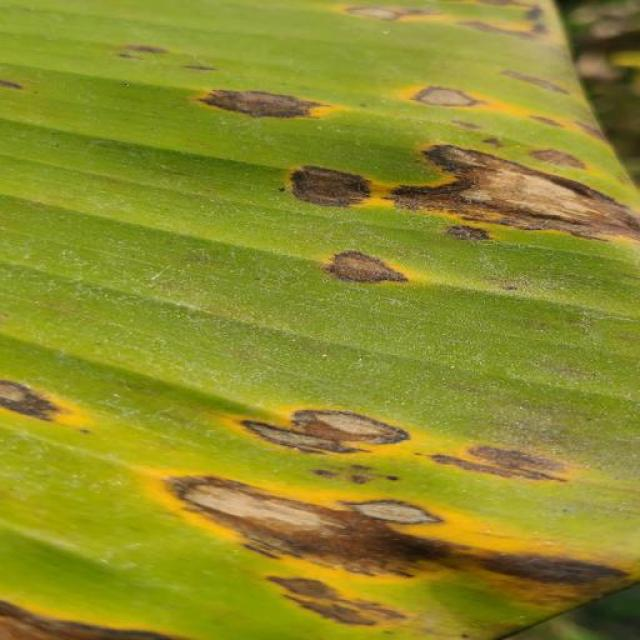Early_rust: (0, 3, 640, 627)
